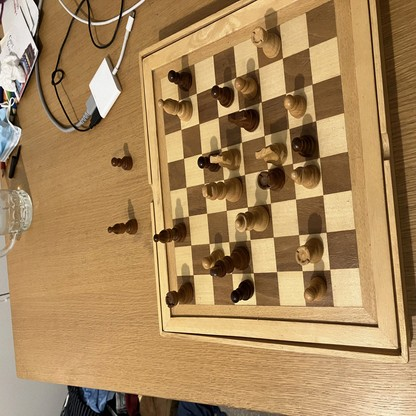bishop_black: (153, 223, 187, 244), (108, 219, 138, 235)
bishop_white: (158, 99, 193, 122), (292, 163, 321, 189)
king_black: (210, 244, 250, 279)
king_white: (202, 175, 242, 203)
knight_black: (228, 110, 259, 132)
knight_white: (255, 142, 287, 164), (210, 147, 241, 169)
pawn_black: (232, 279, 255, 303), (168, 69, 191, 90), (212, 86, 235, 107), (293, 137, 317, 157), (198, 155, 220, 171), (111, 157, 133, 170)
pawn_white: (304, 277, 328, 302), (235, 75, 258, 98), (285, 96, 307, 117), (203, 249, 224, 269)
queen_white: (237, 206, 270, 232)
rock_black: (165, 282, 193, 309), (258, 168, 285, 190)
rock_white: (251, 28, 281, 58), (295, 239, 324, 265)
